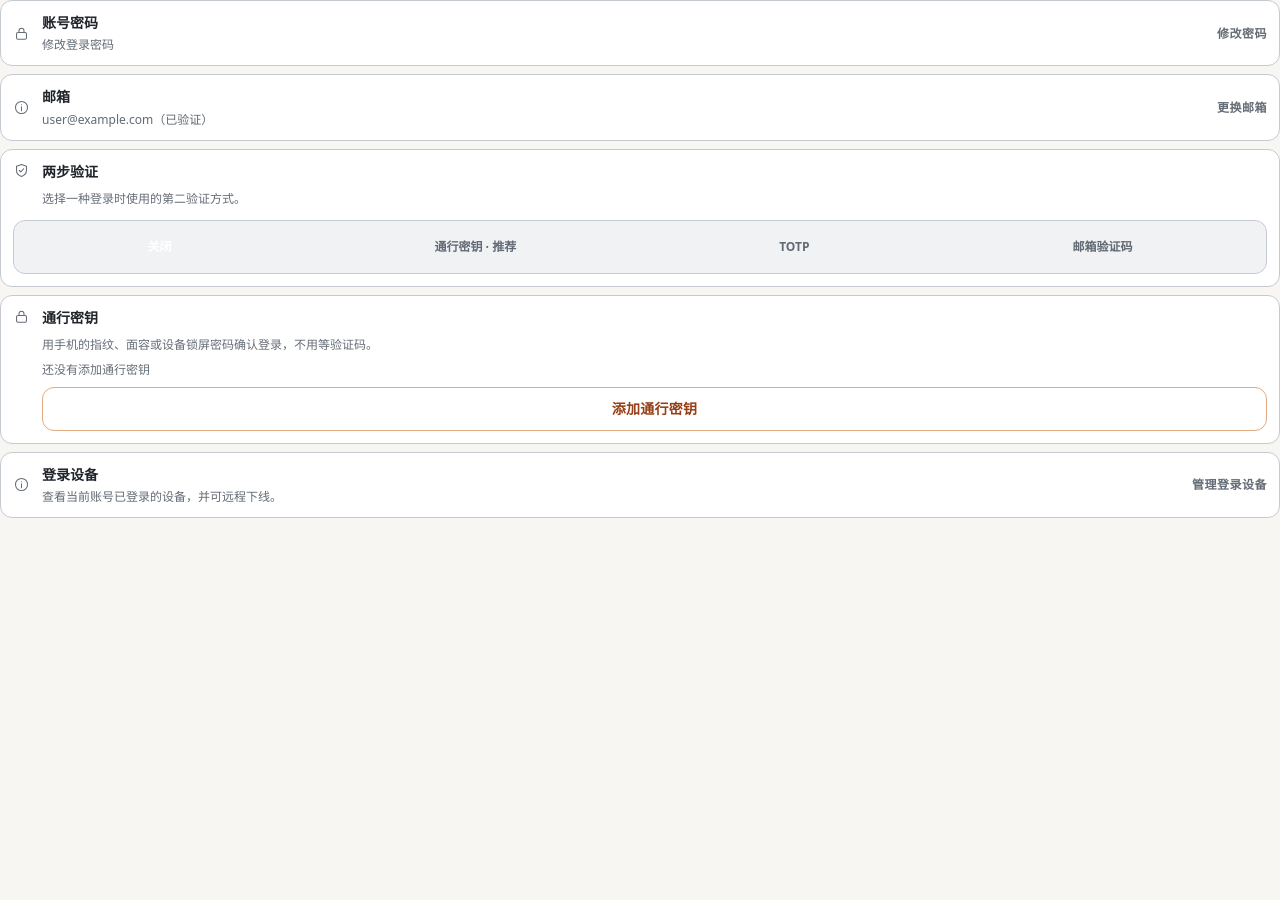
Test case: 安全方式切换与抽屉 › 身份复核失败时立即回滚分段控件
Click the button "TOTP" at (794, 247), box [650,225,939,269]
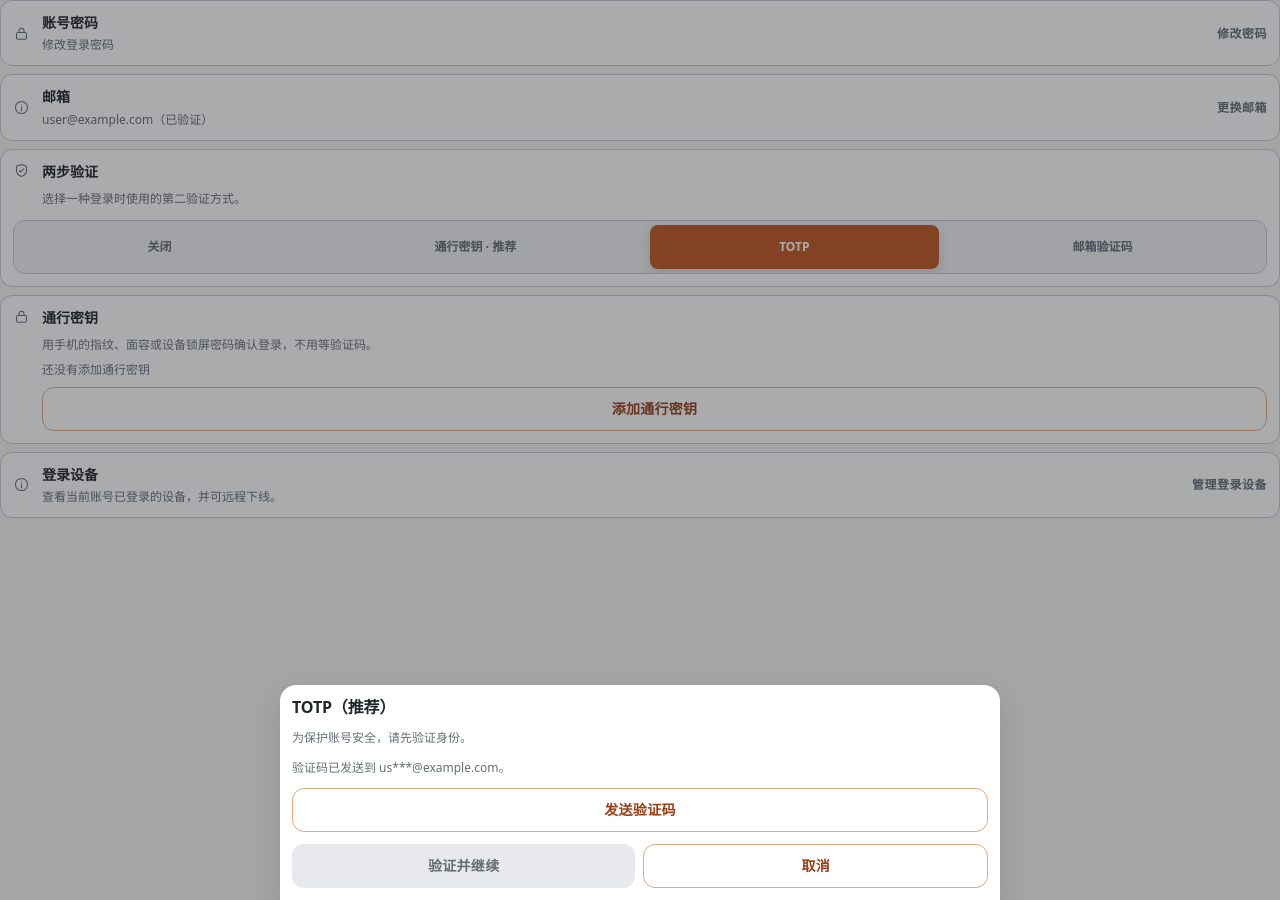
Click the button with class "ghost" showing "发送验证码" at (640, 810), box [292,788,988,832]
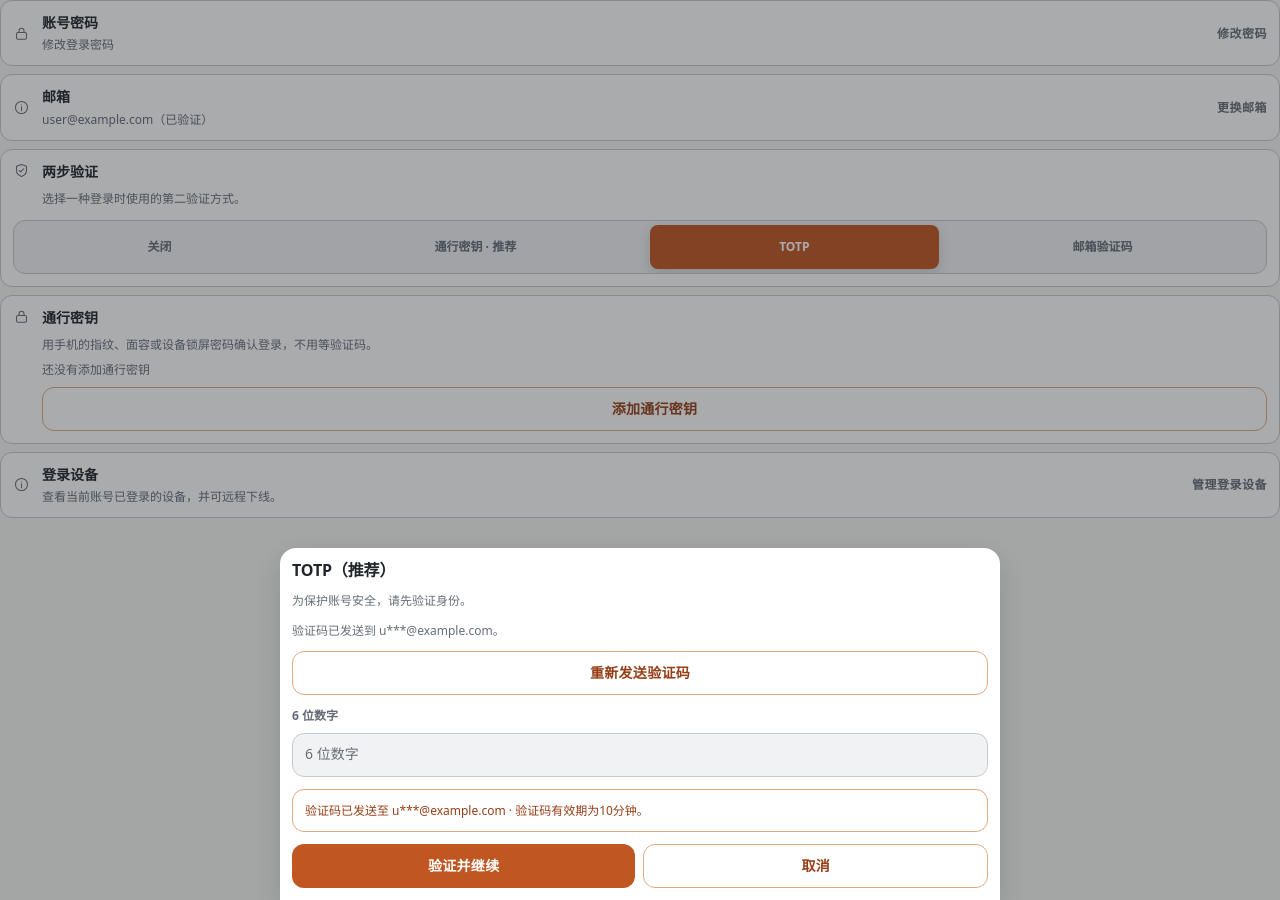
Type "123456" into the field with id "security-identity-code" at (640, 755), box [292,733,988,777]
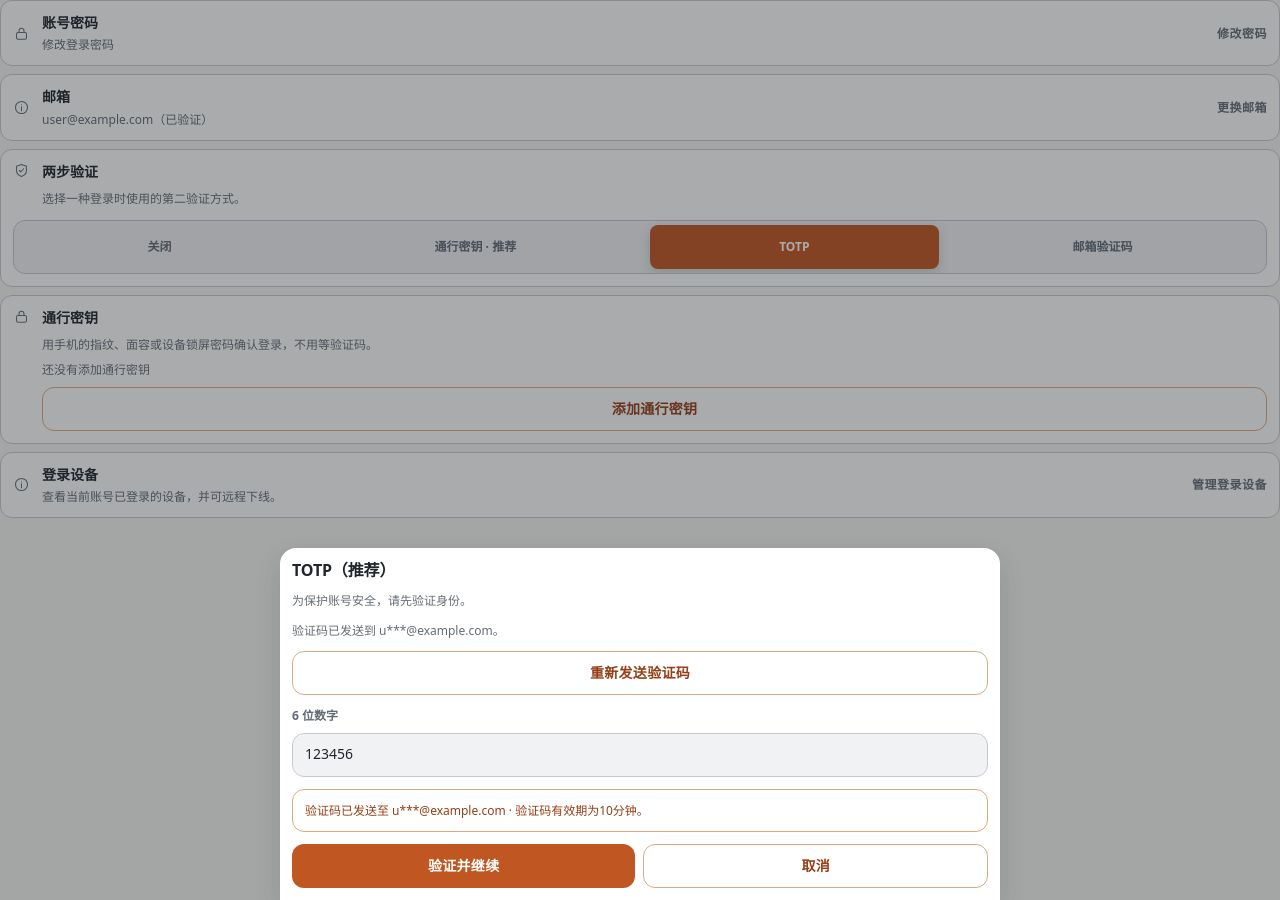
Click the button with class "cta" showing "验证并继续" at (464, 866), box [292,844,636,888]
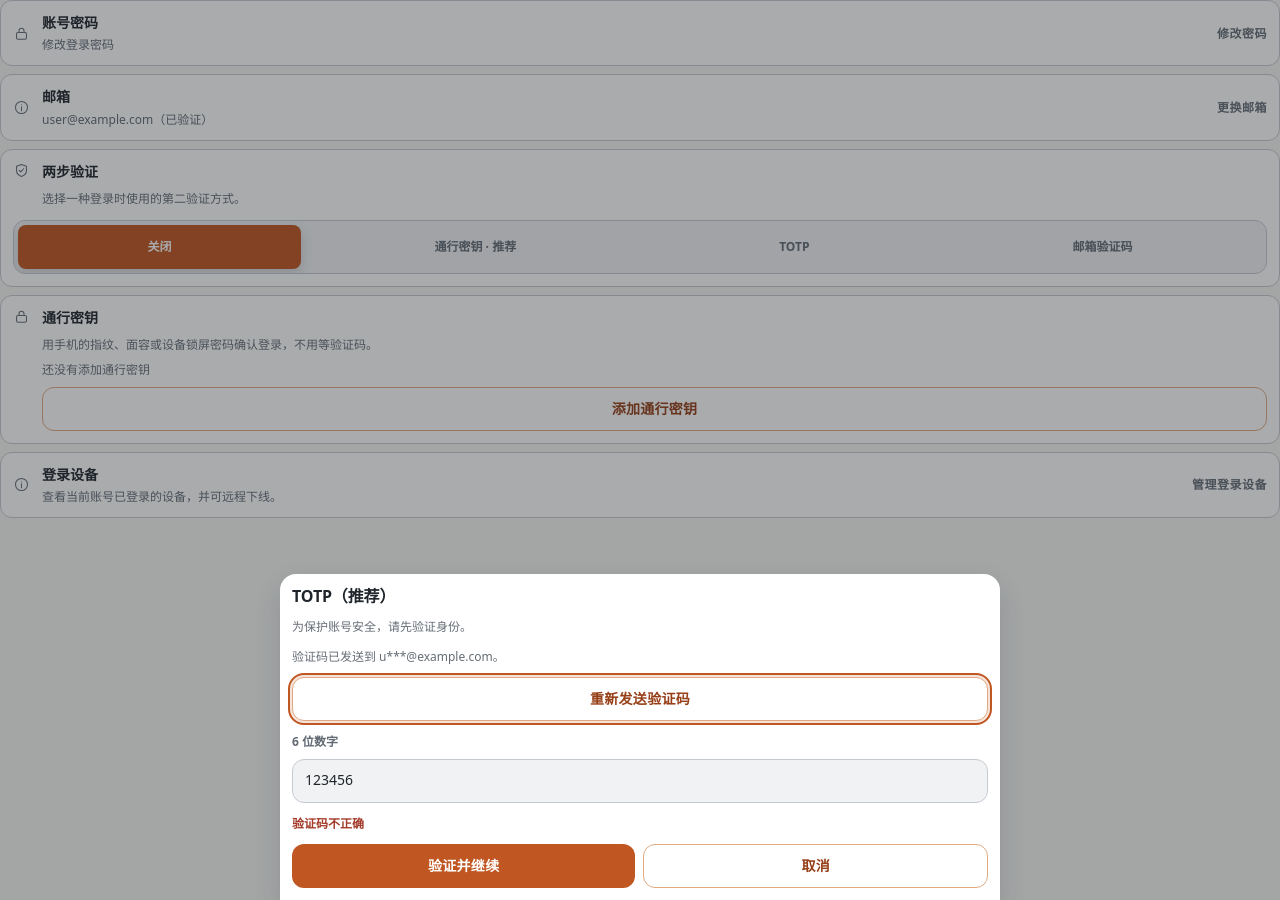
Expected: the message "验证码不正确" is shown, [292,815,364,832]
